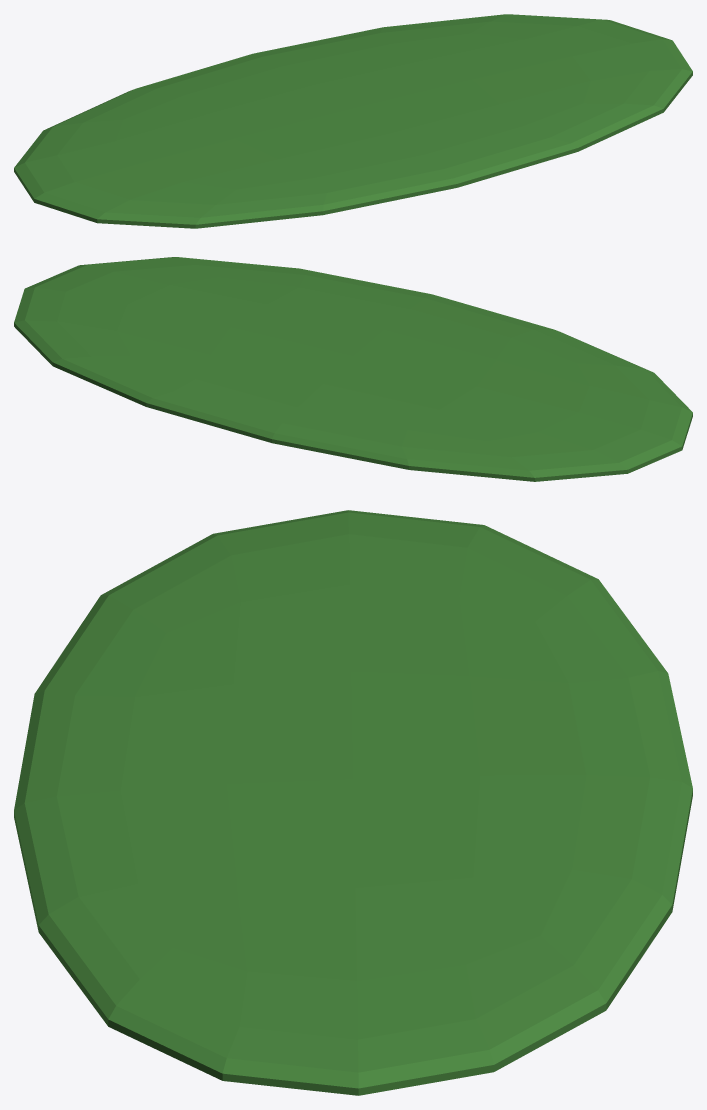
Rendered from Gym_Rug.fbx.
The picture shows the model from 3 angles, top to bottom: view 1: azimuth 30°, elevation 25°; view 2: azimuth 150°, elevation 25°; view 3: azimuth 270°, elevation 25°; orthographic projection. The views are drawn at different scales.
Visible parts, largest first — view 1: Gym_Rug; view 2: Gym_Rug; view 3: Gym_Rug.
Part boxes in pixels (x1,y1,x2,y2): Gym_Rug: (14, 14, 692, 228); Gym_Rug: (14, 257, 692, 481); Gym_Rug: (14, 510, 692, 1095).
Size of the model in its own units: 335 by 7.43 by 166.
